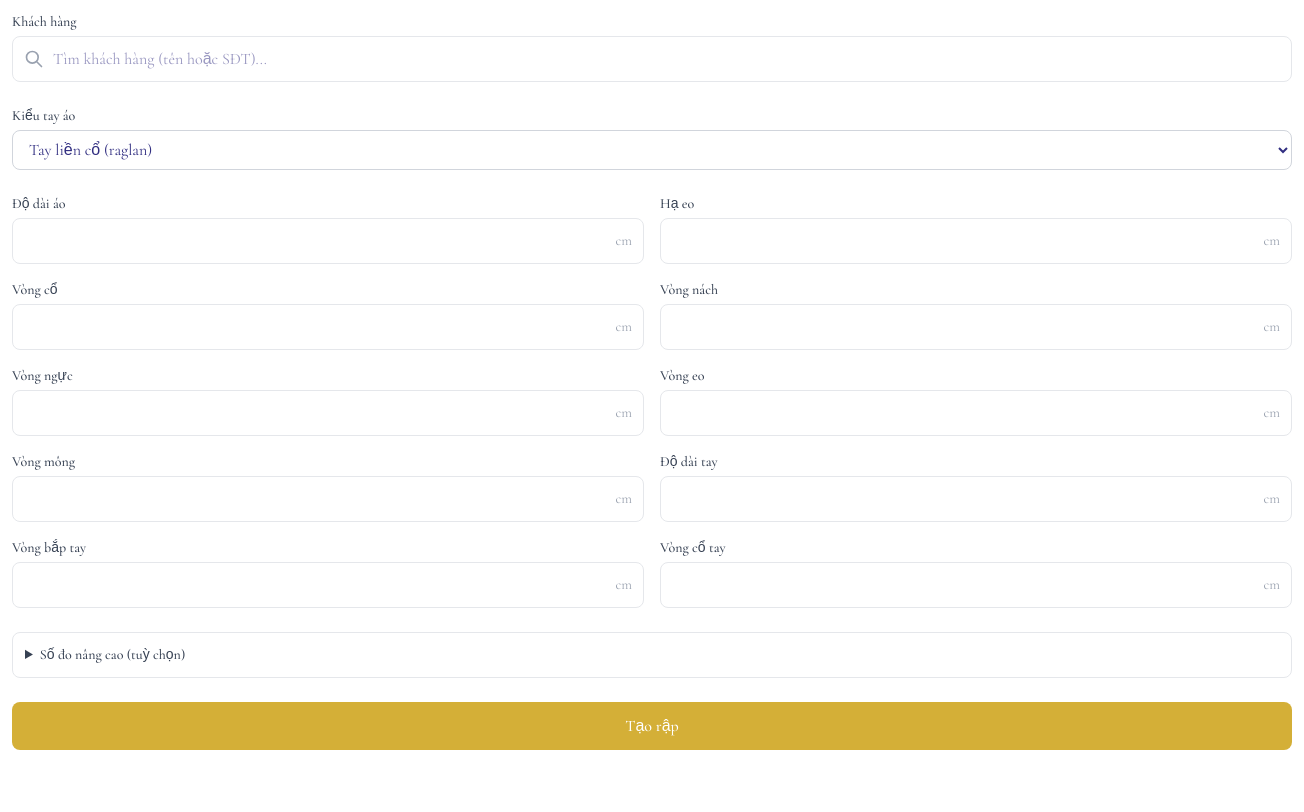
Test case: MeasurementForm › displays search results in dropdown
Type "Nguyễn" into the field with placeholder "Tìm khách hàng (tên hoặc SĐT)..." at (652, 59), box left=12, top=36, right=1292, bottom=82
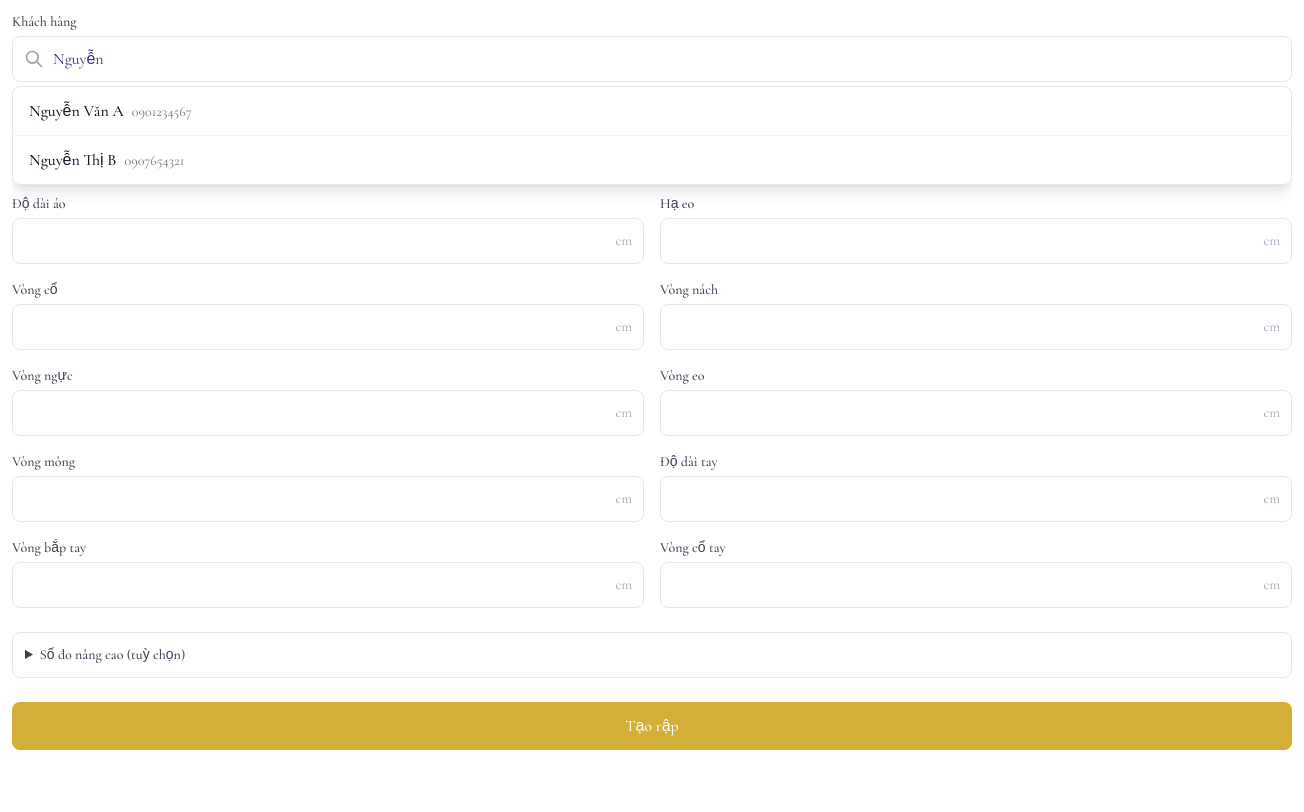
Now the text "Nguyễn Văn A" is shown, box left=29, top=101, right=124, bottom=121
Now the text "Nguyễn Thị B" is shown, box left=29, top=150, right=116, bottom=170
